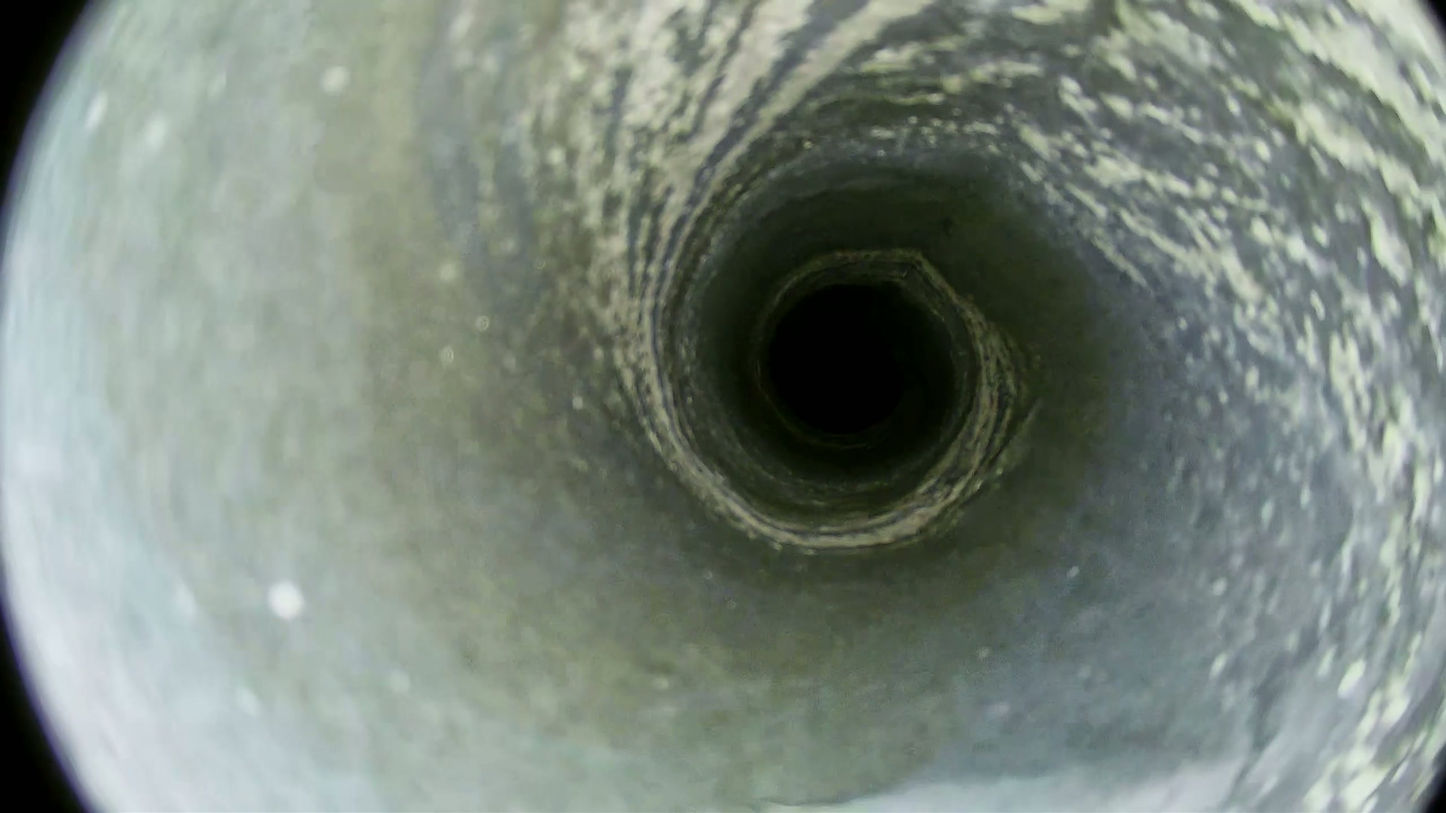hole: (774, 310, 904, 434)
